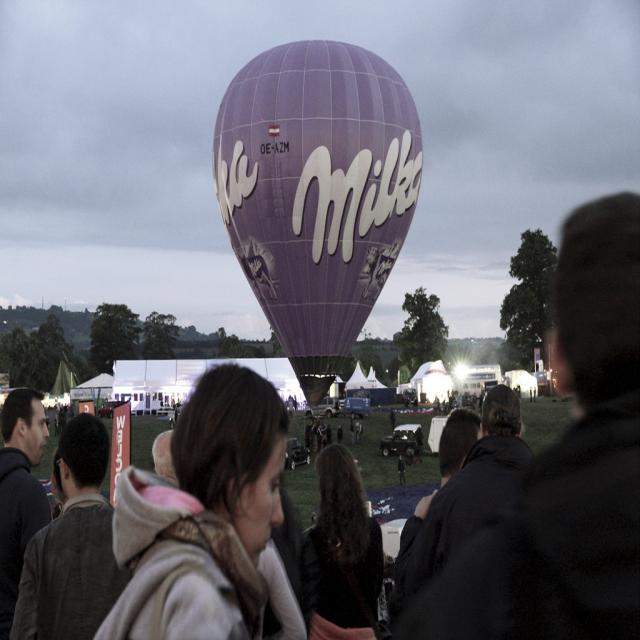milka: (292, 128, 426, 269)
